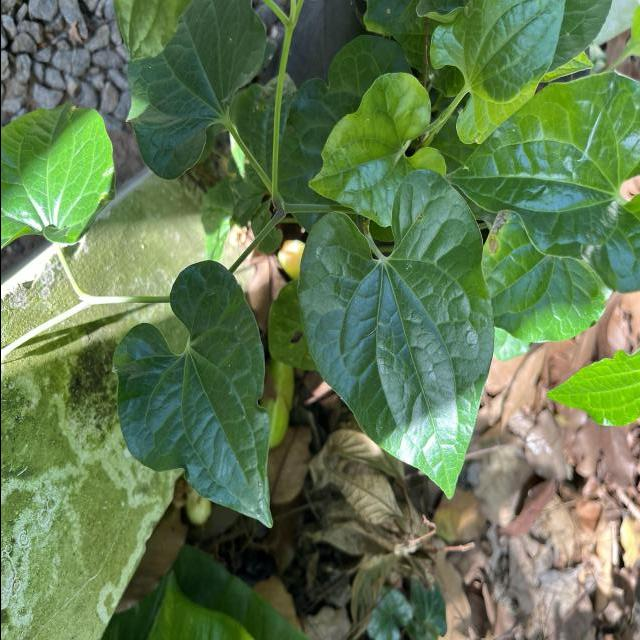Piper longum: (293, 168, 497, 500), (110, 258, 274, 528), (305, 70, 448, 230)
